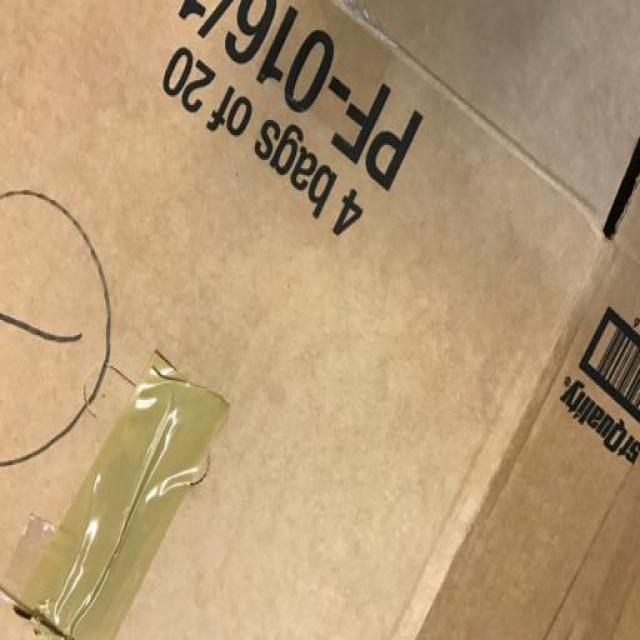Cardboard Paper: (0, 0, 638, 640)
